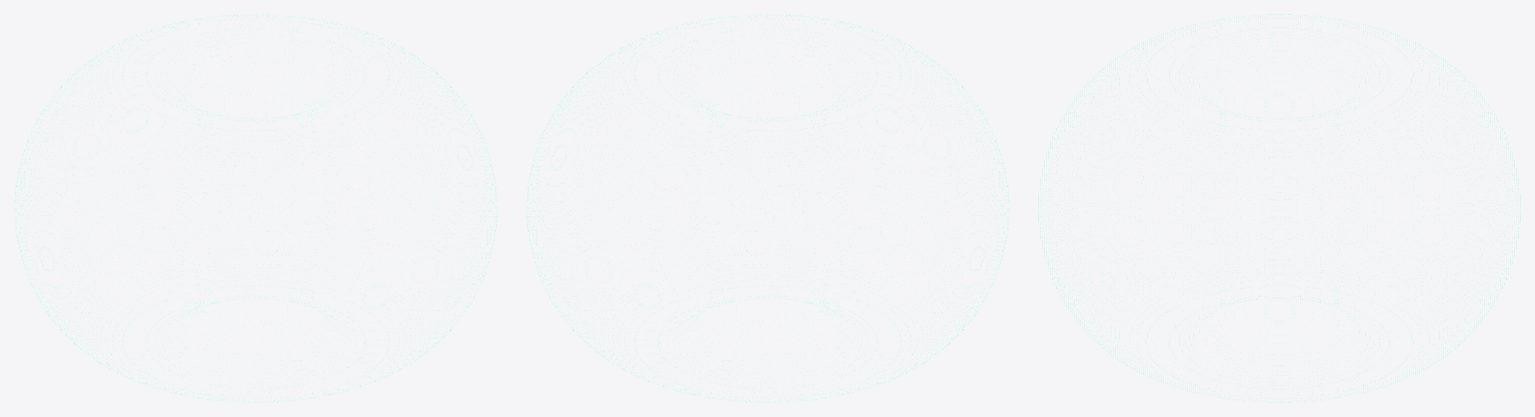
File: orbital_n4_l2_m2_complex_point_cloud.fbx
3 renders of one model, left to right at view 1: azimuth 30°, elevation 25°; view 2: azimuth 150°, elevation 25°; view 3: azimuth 270°, elevation 25°, orthographic.
Parts seen in each view (by area): view 1: orbital_n4_l2_m2_complex_point_cloud; view 2: orbital_n4_l2_m2_complex_point_cloud; view 3: orbital_n4_l2_m2_complex_point_cloud.
Boxes of the visible parts, x1,y1,x2,y2 form: orbital_n4_l2_m2_complex_point_cloud: (14, 14, 497, 402); orbital_n4_l2_m2_complex_point_cloud: (526, 14, 1009, 402); orbital_n4_l2_m2_complex_point_cloud: (1038, 14, 1520, 402).
Bounding box in the file's own units: 6839 × 4197 × 6839.
